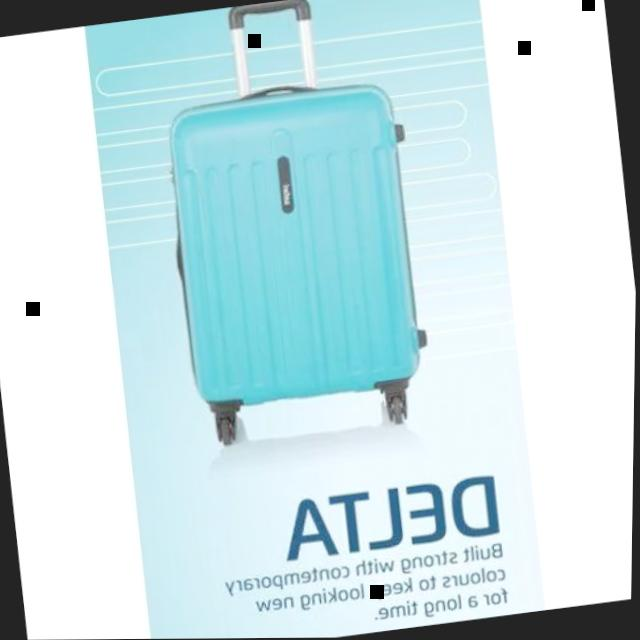luggage: (148, 63, 441, 425)
